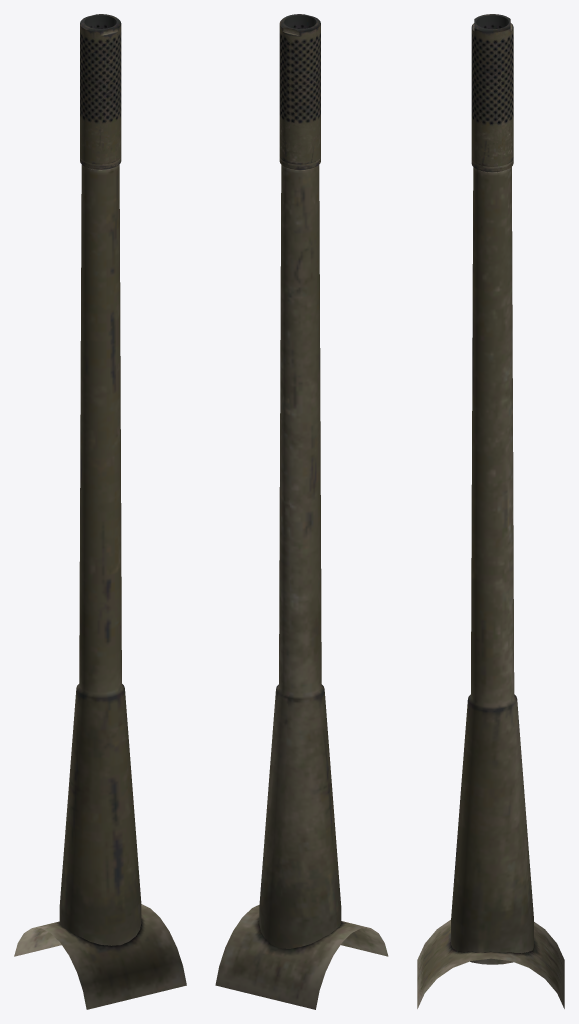
File: Gun_02.glb
3 views of the same model, side by side, from view 1: azimuth 30°, elevation 25°; view 2: azimuth 150°, elevation 25°; view 3: azimuth 270°, elevation 25° (orthographic).
Parts seen in each view (by area): view 1: set_0_group_0; view 2: set_0_group_0; view 3: set_0_group_0.
Boxes of the visible parts, x1,y1,x2,y2 form: set_0_group_0: (14,14,186,1009); set_0_group_0: (215,14,388,1009); set_0_group_0: (417,14,564,1008).
Bounding box in the file's own units: 0.3745 × 3.38 × 0.4698.
1 material, 1 textured.
